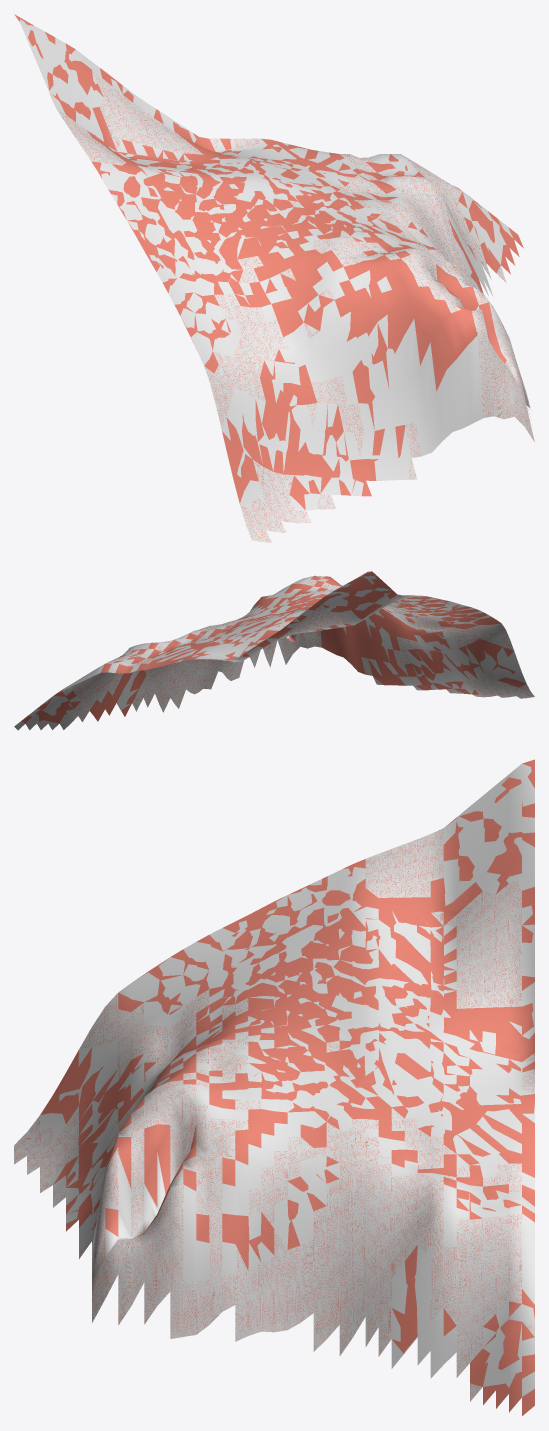
File: Terrain02.fbx
3 views of the same model, one above another, from view 1: azimuth 30°, elevation 25°; view 2: azimuth 150°, elevation 25°; view 3: azimuth 270°, elevation 25° (orthographic). The views are drawn at different scales.
Visible parts, largest first — view 1: Terrain02_LOD0, UTM_Terrain02; view 2: Terrain02_LOD0, UTM_Terrain02; view 3: Terrain02_LOD0, UTM_Terrain02.
Part boxes in pixels (box(x1,y1,x2,y2)): Terrain02_LOD0: box(14, 14, 534, 542); UTM_Terrain02: box(14, 14, 533, 541); Terrain02_LOD0: box(14, 571, 534, 730); UTM_Terrain02: box(21, 571, 533, 729); Terrain02_LOD0: box(14, 764, 534, 1401); UTM_Terrain02: box(14, 759, 534, 1415).
Size of what is drawn, in the model's own units: 9800 by 6701 by 8001.
